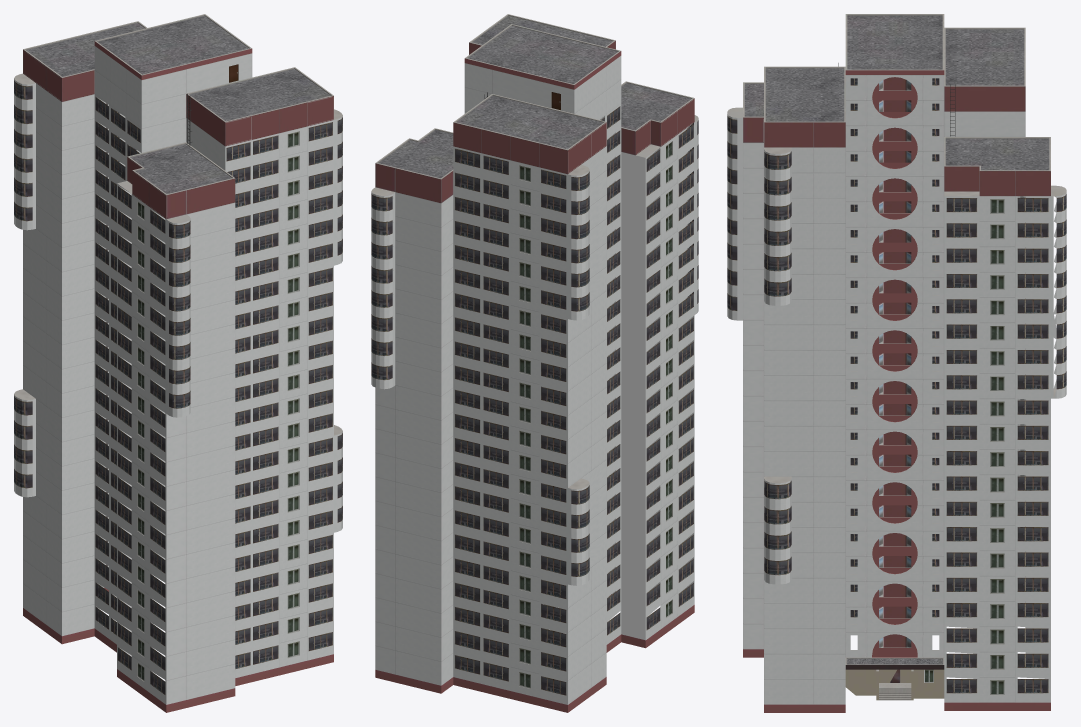
3 renders of one model, left to right at view 1: azimuth 30°, elevation 25°; view 2: azimuth 150°, elevation 25°; view 3: azimuth 270°, elevation 25°, orthographic. The views are drawn at different scales.
Parts seen in each view (by area): view 1: Cube_building_0, Cube_windows_0; view 2: Cube_building_0, Cube_windows_0; view 3: Cube_building_0, Cube_windows_0.
Boxes of the visible parts, box(x1,y1,x2,y2) form: Cube_building_0: box(14, 14, 342, 712); Cube_windows_0: box(14, 80, 342, 694); Cube_building_0: box(371, 14, 698, 712); Cube_windows_0: box(371, 106, 698, 695); Cube_building_0: box(727, 14, 1066, 712); Cube_windows_0: box(727, 78, 1066, 694).
Bounding box in the file's own units: 54.62 × 147 × 72.87.
Materials: 2 (2 with a texture image).
